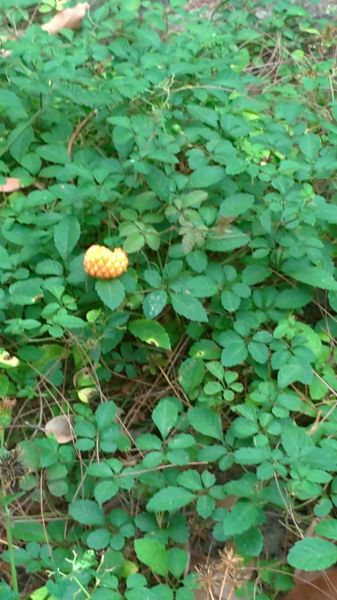eggs: (73, 240, 133, 282)
